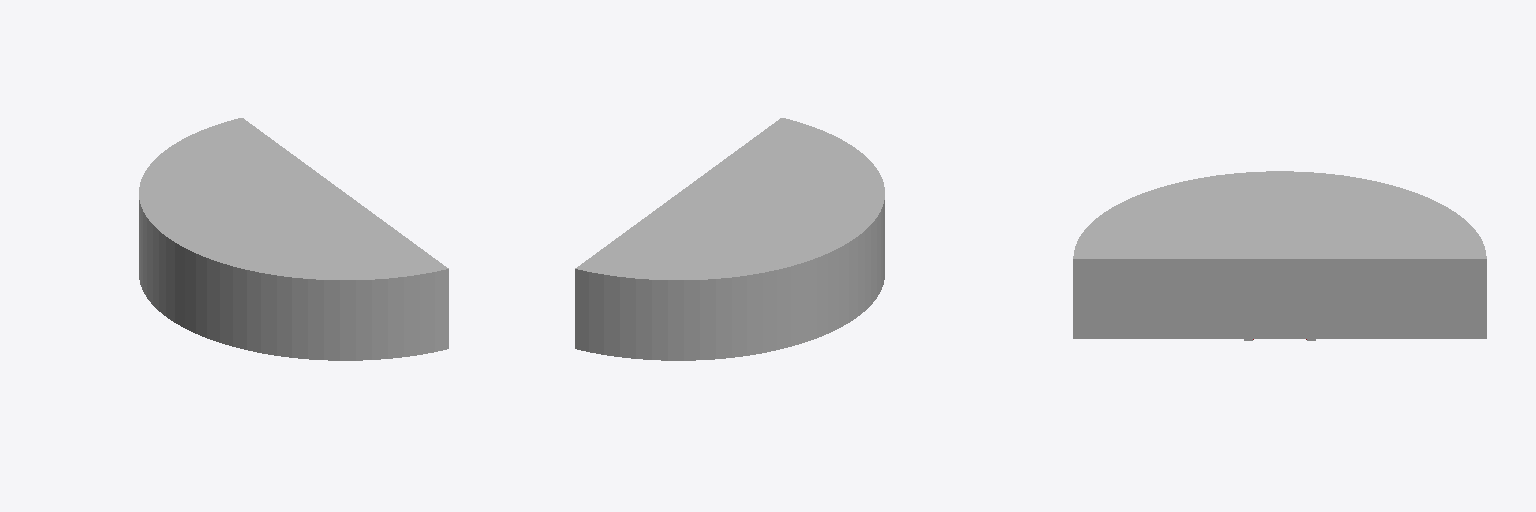
Rendered from Door.obj.
3 views of the same model, side by side, from view 1: azimuth 30°, elevation 25°; view 2: azimuth 150°, elevation 25°; view 3: azimuth 270°, elevation 25° (orthographic).
Parts seen in each view (by area): view 1: Object.1; view 2: Object.1; view 3: Object.1.
Part boxes in pixels (x1,y1,x2,y2): Object.1: (139,118,448,360); Object.1: (575,118,884,360); Object.1: (1073,171,1486,340).
Bounding box in the file's own units: 45.89 × 20.11 × 91.78.